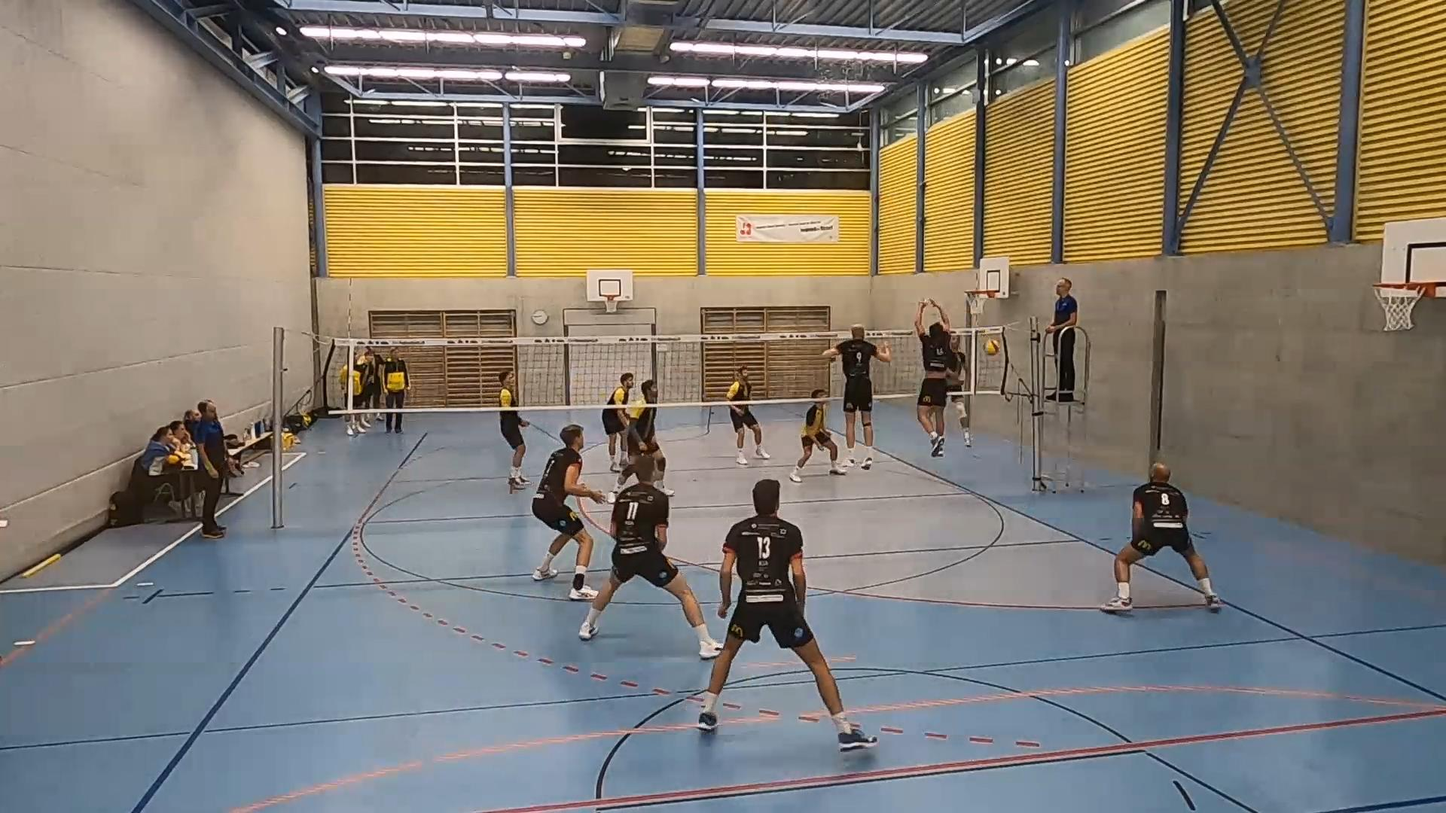Attack: (935, 322, 975, 450)
Block: (824, 322, 891, 474), (909, 297, 966, 464)
Player: (697, 479, 877, 750), (579, 457, 721, 659), (1101, 463, 1222, 612), (532, 425, 606, 600), (613, 379, 673, 498), (789, 389, 846, 483), (727, 365, 770, 465), (499, 369, 529, 491), (602, 373, 634, 472)
ball: (985, 337, 1000, 354)
